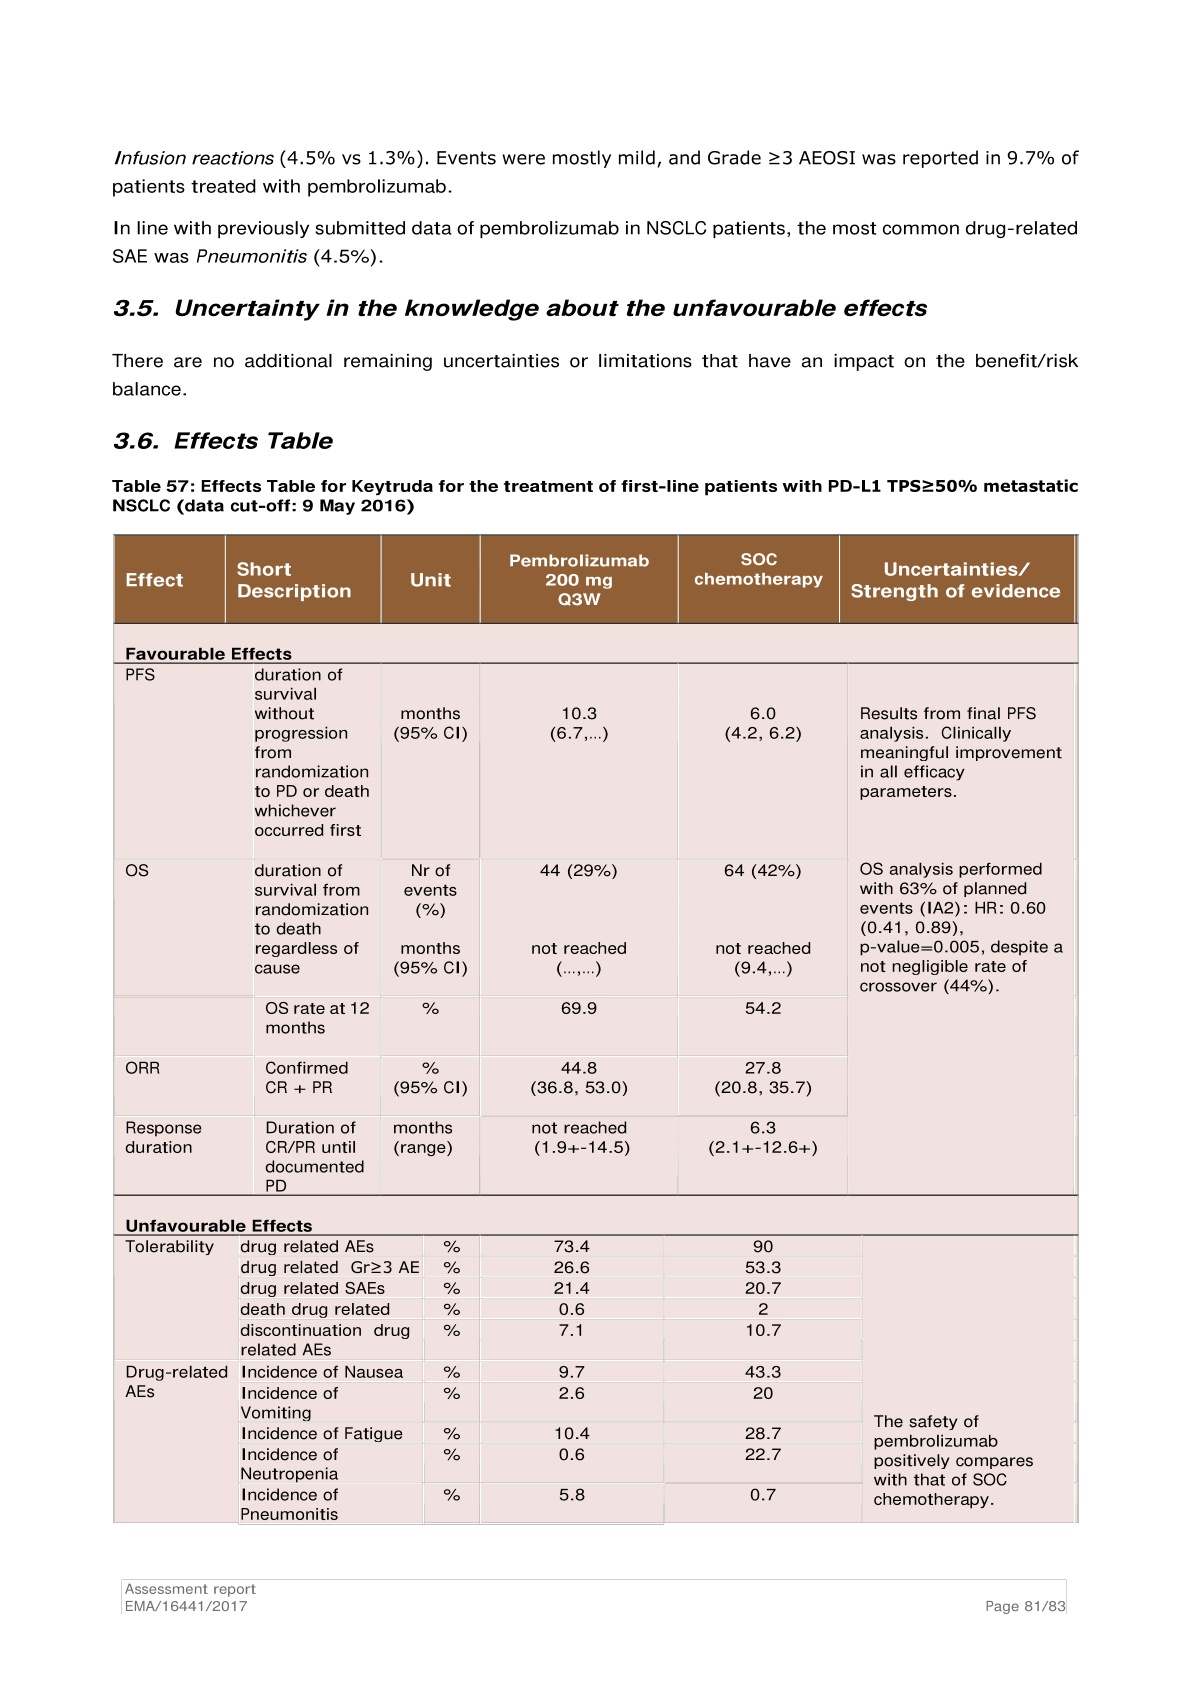merged_cells: (113, 532, 1079, 1524)
